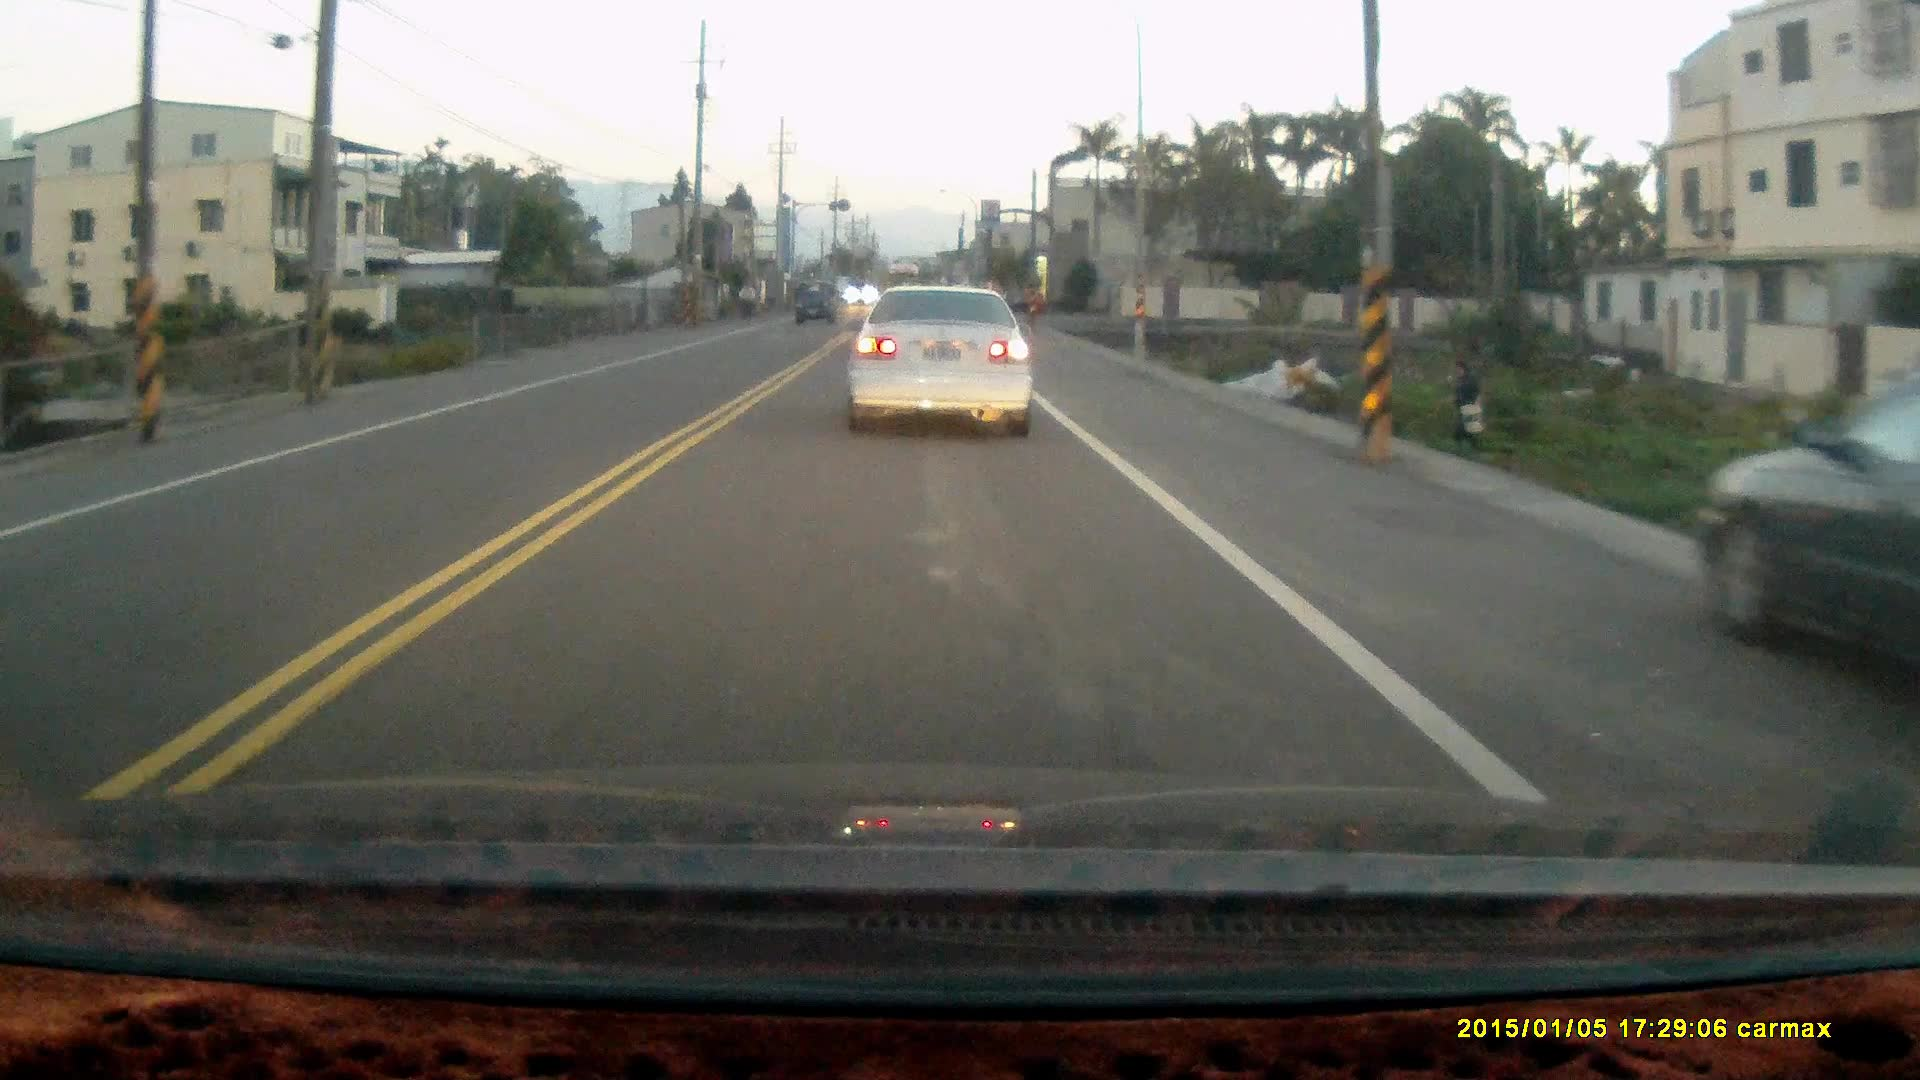pedestrian: (1450, 356, 1486, 444)
rider: (735, 276, 756, 321)
vehicle: (1699, 381, 1920, 689), (850, 289, 1040, 433), (795, 285, 841, 329)
